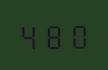eight: (42, 20, 64, 49)
four: (18, 20, 40, 50)
zero: (65, 19, 87, 49)
